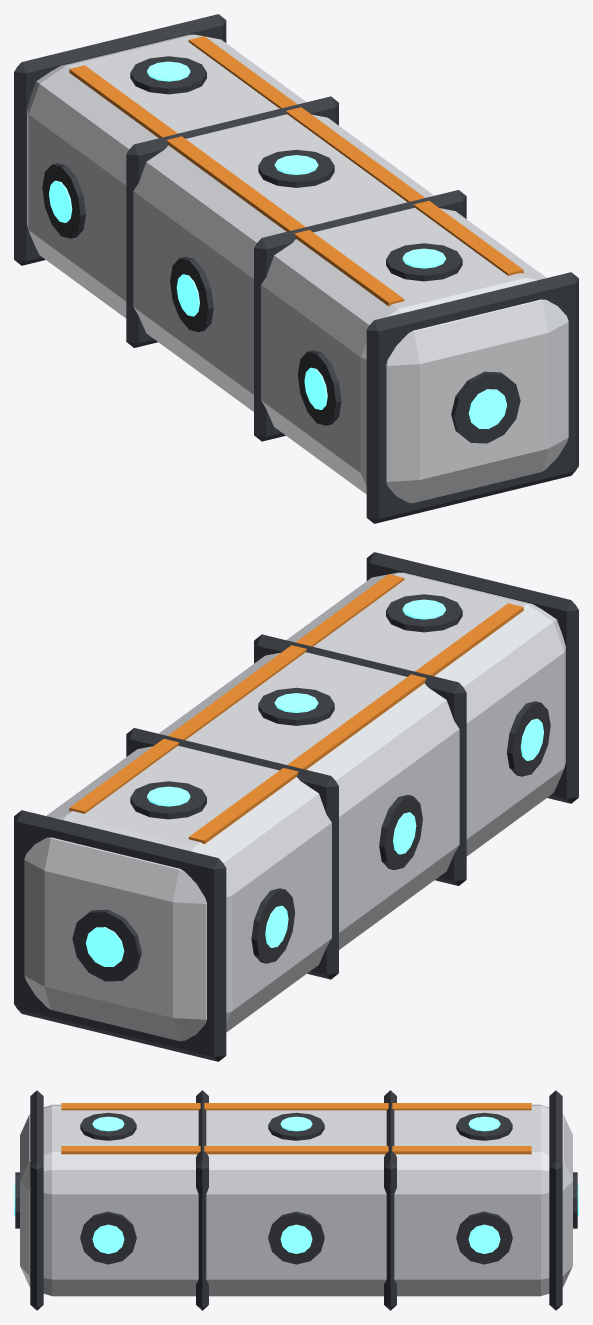
Rendered from corridor_1x3.glb.
3 renders of one model, top to bottom at view 1: azimuth 30°, elevation 25°; view 2: azimuth 150°, elevation 25°; view 3: azimuth 270°, elevation 25°, orthographic. The views are drawn at different scales.
Visible parts, largest first — view 1: corridor_1x3; view 2: corridor_1x3; view 3: corridor_1x3.
Part boxes in pixels (x1,y1,x2,y2): corridor_1x3: (14,14,578,523); corridor_1x3: (14,552,578,1061); corridor_1x3: (14,1090,578,1310).
Bounding box in the file's own units: 0.985 × 0.905 × 3.01.
